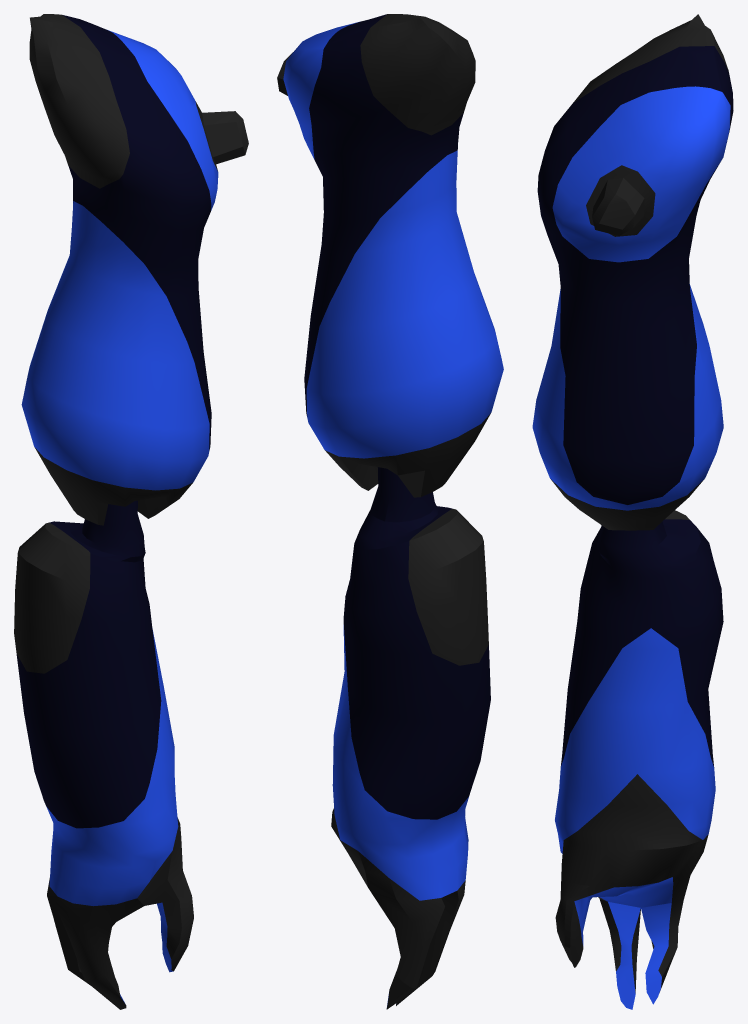
File: BracoDir_3.fbx
The picture shows the model from 3 angles, left to right: view 1: azimuth 30°, elevation 25°; view 2: azimuth 150°, elevation 25°; view 3: azimuth 270°, elevation 25°; orthographic projection. The views are drawn at different scales.
Parts seen in each view (by area): view 1: BracoDir_3; view 2: BracoDir_3; view 3: BracoDir_3.
Part boxes in pixels (x1,y1,x2,y2): BracoDir_3: (14, 14, 248, 1009); BracoDir_3: (277, 14, 503, 1009); BracoDir_3: (532, 14, 733, 1009).
Bounding box in the file's own units: 38.54 × 177 × 33.32.
